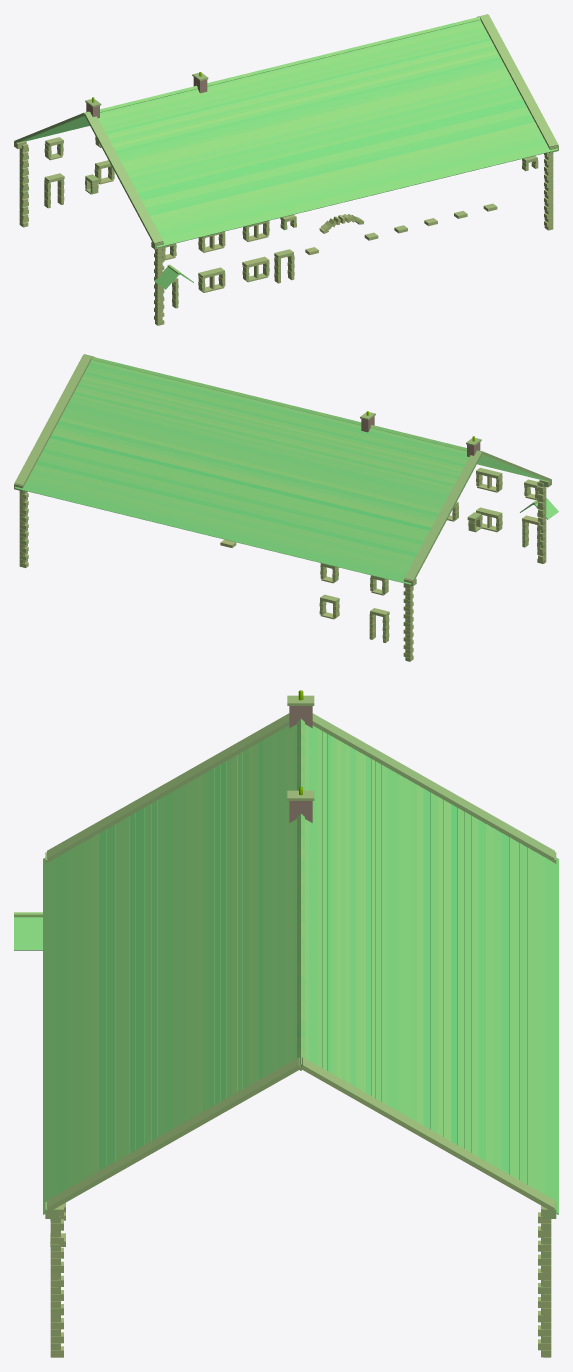
The model's file is SM_Bld_145_Stone.glb.
The picture shows the model from 3 angles, top to bottom: view 1: azimuth 30°, elevation 25°; view 2: azimuth 150°, elevation 25°; view 3: azimuth 270°, elevation 25°; orthographic projection. The views are drawn at different scales.
Parts seen in each view (by area): view 1: SM_Bld_145_Stone; view 2: SM_Bld_145_Stone; view 3: SM_Bld_145_Stone.
Part boxes in pixels (x1=…): SM_Bld_145_Stone: x1=14, y1=14, x2=558, y2=325; SM_Bld_145_Stone: x1=14, y1=354, x2=558, y2=661; SM_Bld_145_Stone: x1=14, y1=690, x2=558, y2=1357.
Bounding box in the file's own units: 32.6 × 13.61 × 21.
